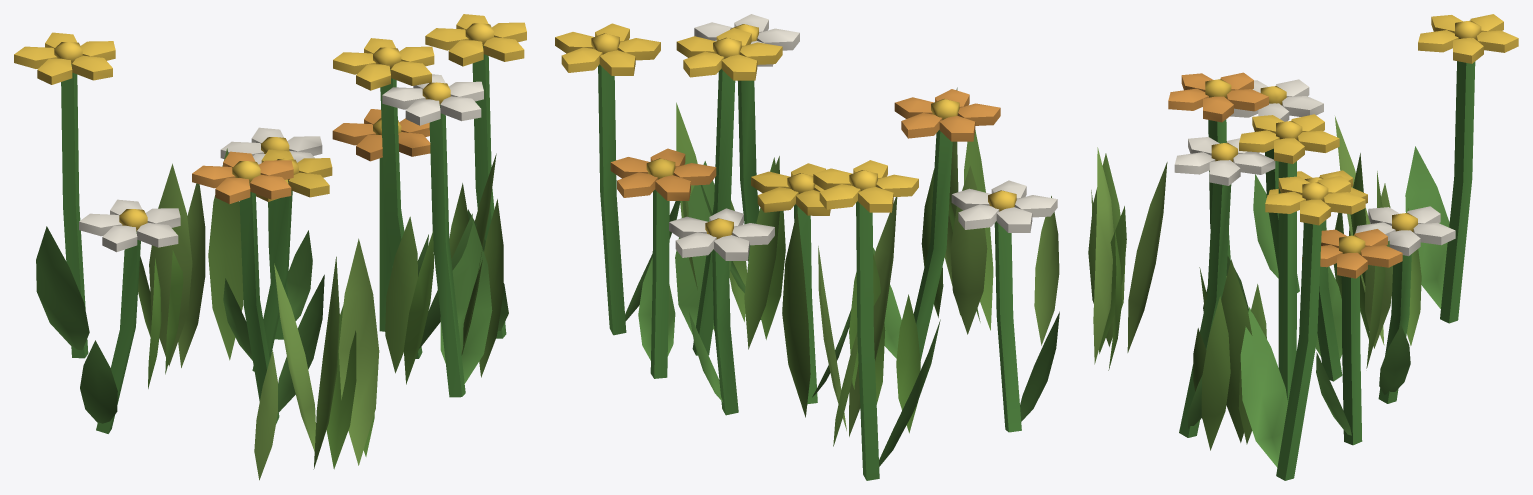
The model's file is flower_cluster_gold.glb.
3 views of the same model, side by side, from view 1: azimuth 30°, elevation 25°; view 2: azimuth 150°, elevation 25°; view 3: azimuth 270°, elevation 25° (orthographic). The views are drawn at different scales.
Parts seen in each view (by area): view 1: Flowers; view 2: Flowers; view 3: Flowers.
Part boxes in pixels (x1,y1,x2,y2): Flowers: (14, 14, 526, 480); Flowers: (555, 14, 1059, 480); Flowers: (1088, 14, 1518, 480).
Bounding box in the file's own units: 0.687 × 0.445 × 0.567.
